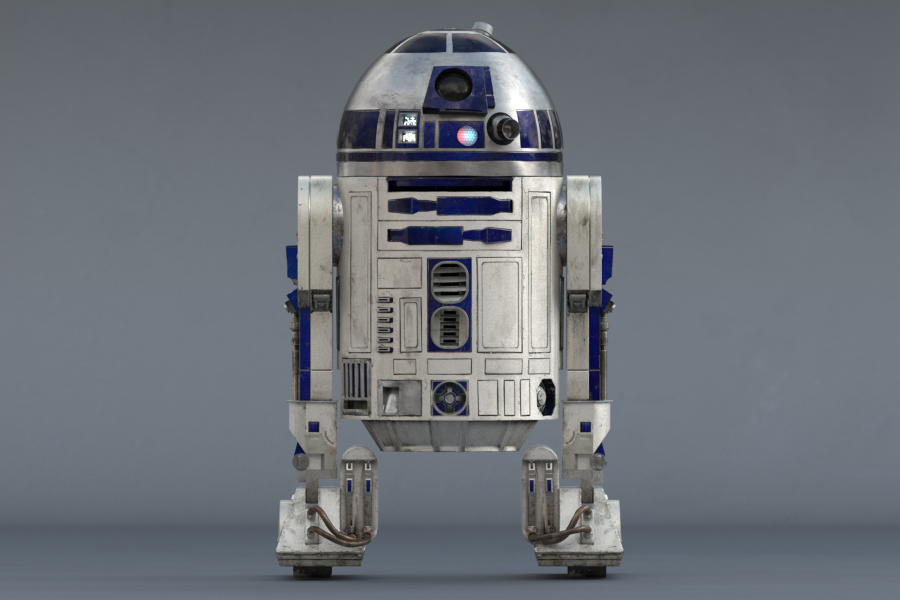r2d2: (278, 20, 622, 581)
